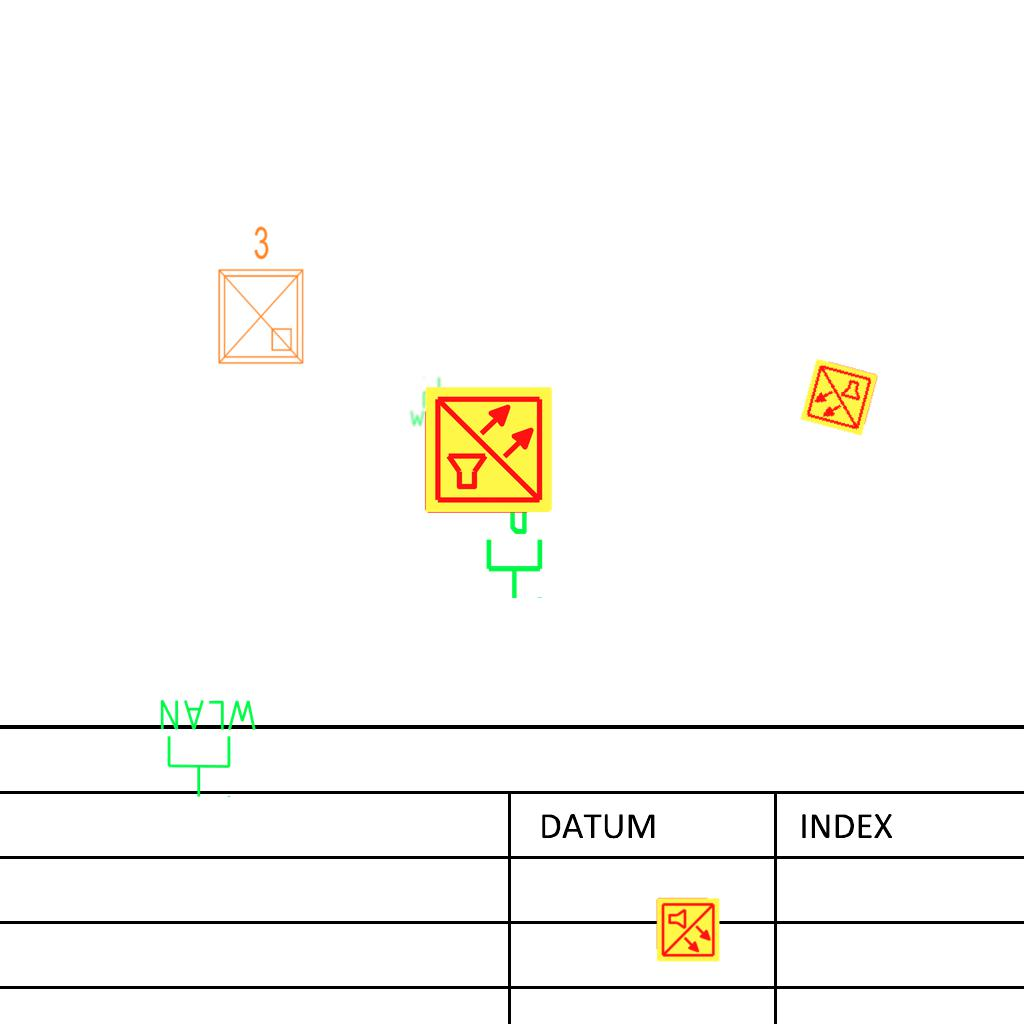Datenanschluss_einfach: (478, 501, 547, 601)
Einbaudownlights_LED_Konferenzraeume: (207, 221, 311, 371)
OKW_Multisensormelder_(Kombination_optischer_Rauch-Kahlenmonoxid_Waerme-Melder): (423, 384, 555, 516), (798, 356, 880, 438), (655, 897, 721, 963)
WLAN: (156, 696, 261, 800), (408, 376, 460, 428)
